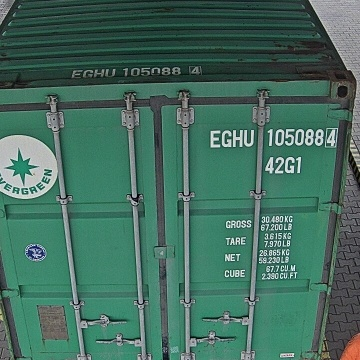serial_id: (210, 128, 336, 147)
